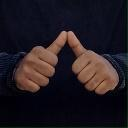hand: (13, 30, 67, 93), (67, 30, 119, 95)
